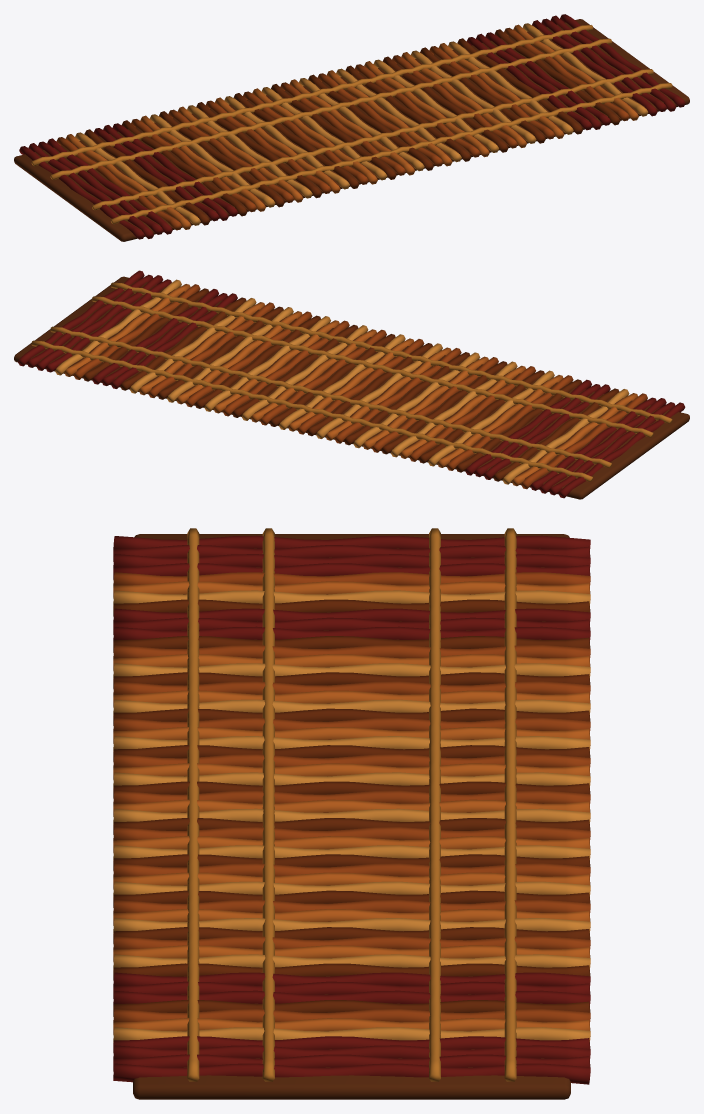
File: woven-reed-mat.glb
3 renders of one model, top to bottom at view 1: azimuth 30°, elevation 25°; view 2: azimuth 150°, elevation 25°; view 3: azimuth 270°, elevation 25°, orthographic. The views are drawn at different scales.
Parts seen in each view (by area): view 1: fringed weaving; view 2: fringed weaving; view 3: fringed weaving.
Part boxes in pixels (box(x1,y1,x2,y2)): fringed weaving: box(14, 14, 689, 241); fringed weaving: box(14, 270, 689, 499); fringed weaving: box(113, 528, 590, 1099).
Bounding box in the file's own units: 3.48 × 0.0784 × 1.26.
